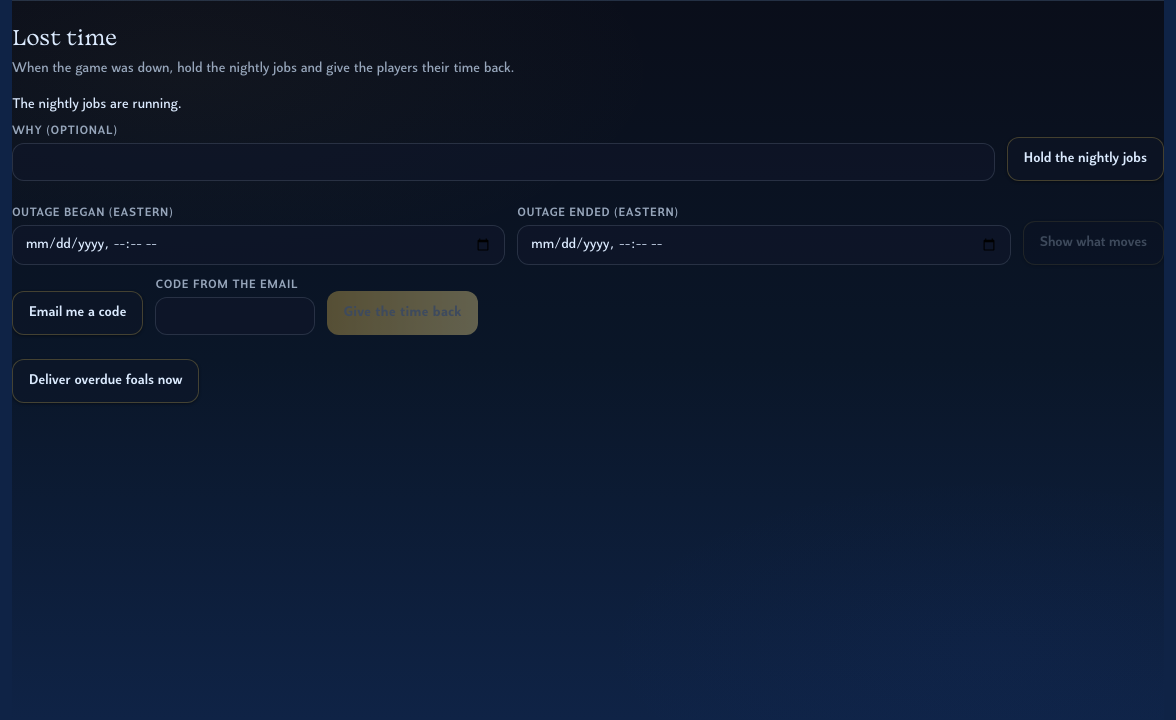
Test case: StaffOutage › delivers overdue foals and says how many
Click the button "Deliver overdue foals now".
click(106, 381)  # box top-left (12, 359), bottom-right (200, 403)
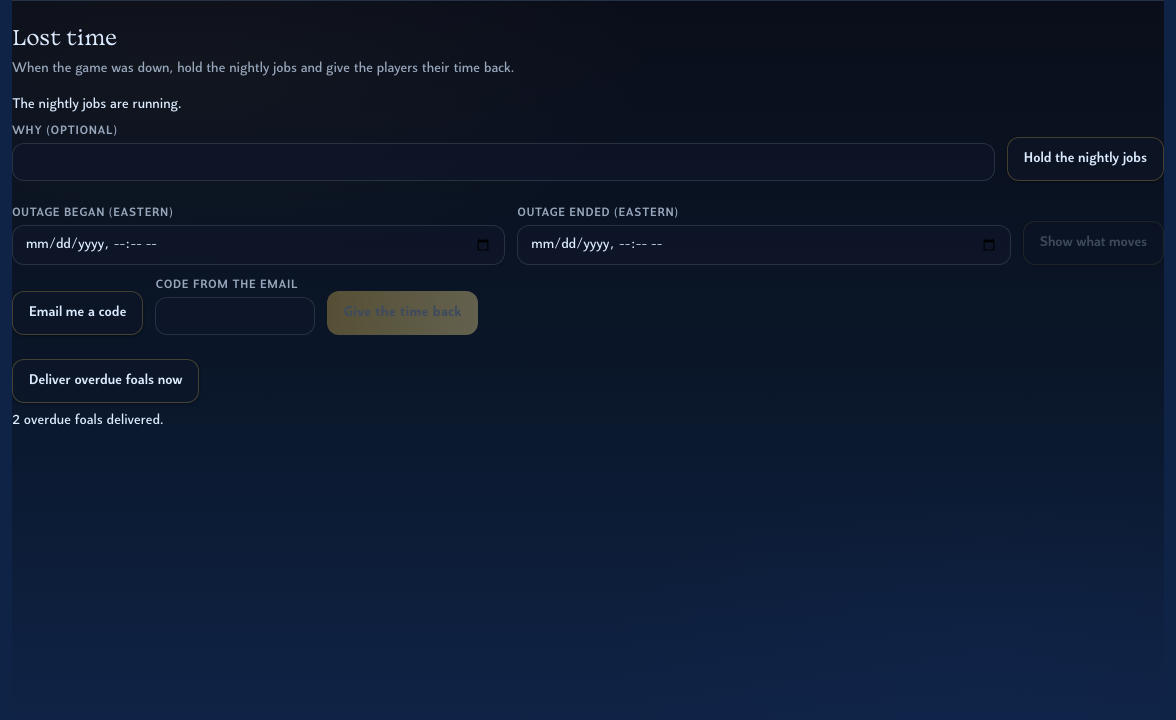
expect the text "2 overdue foals delivered." is shown: met, box top-left (12, 413), bottom-right (164, 428)
